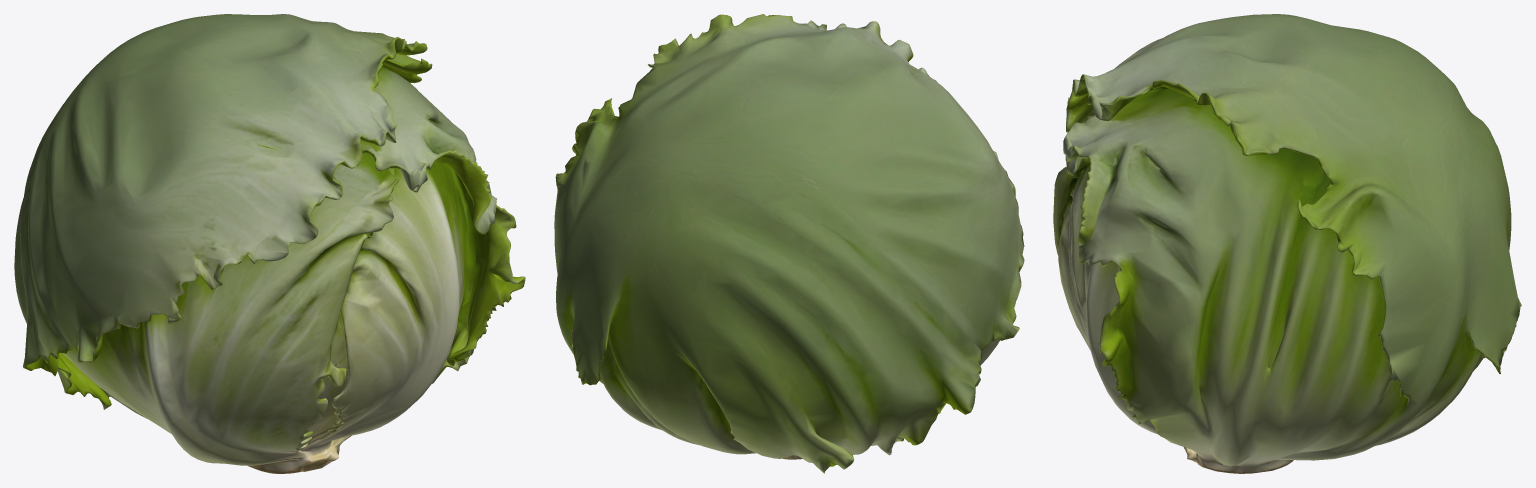
File: cabbage.glb
3 renders of one model, left to right at view 1: azimuth 30°, elevation 25°; view 2: azimuth 150°, elevation 25°; view 3: azimuth 270°, elevation 25°, orthographic. The views are drawn at different scales.
Visible parts, largest first — view 1: node_0; view 2: node_0; view 3: node_0.
Boxes of the visible parts, left/top/right/bottom form: node_0: left=14, top=14, right=525, bottom=473; node_0: left=554, top=14, right=1024, bottom=473; node_0: left=1053, top=14, right=1521, bottom=473.
Size of the model in its own units: 1 by 0.9552 by 0.9819.
Materials: 1 (1 with a texture image).
